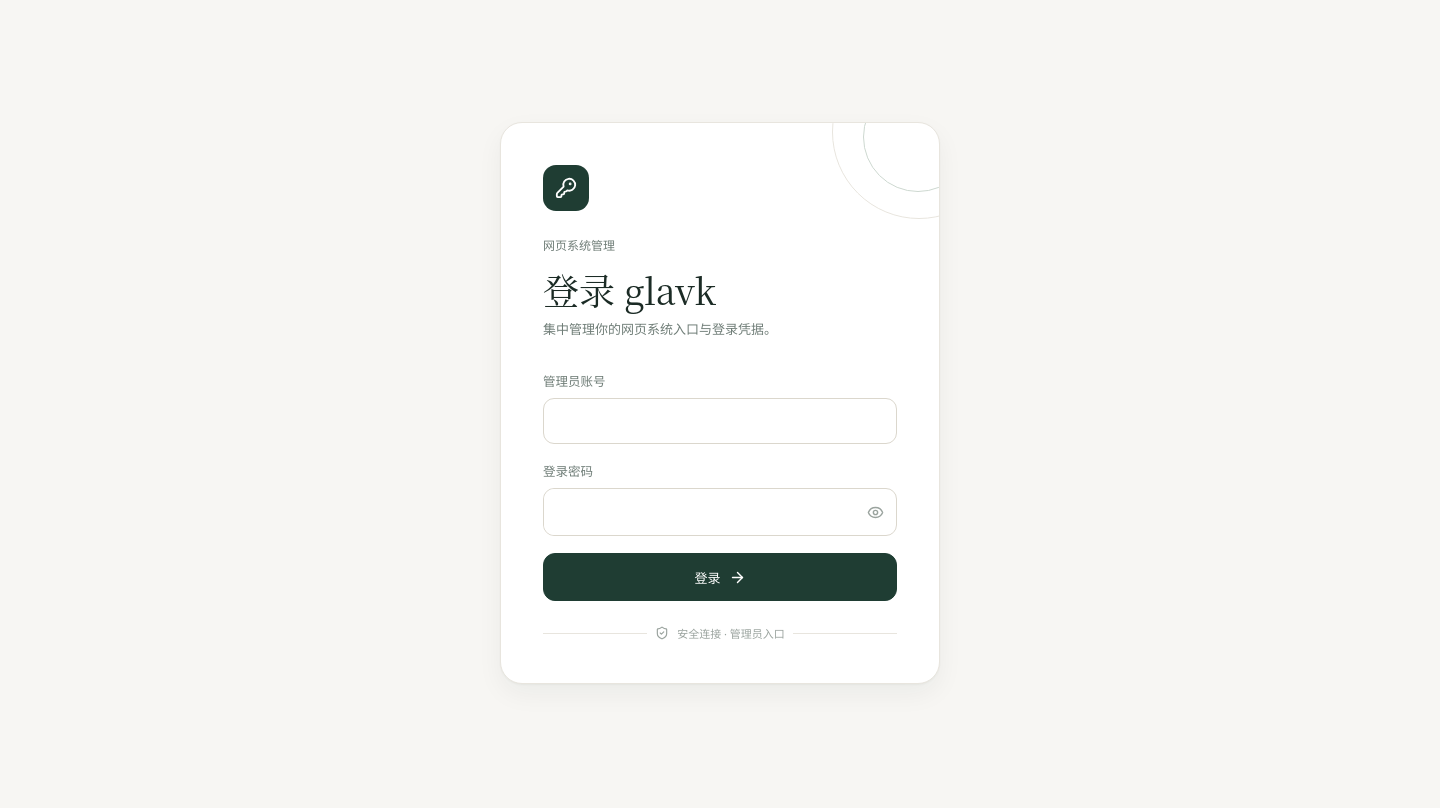
Scenario: glavk dashboard workflows › renders a project card and copies its password only after in-memory decryption
The width and height of the screenshot is (1440, 808).
In the field labelled "管理员账号": [720, 421] box [543,398,897,444], type "admin"
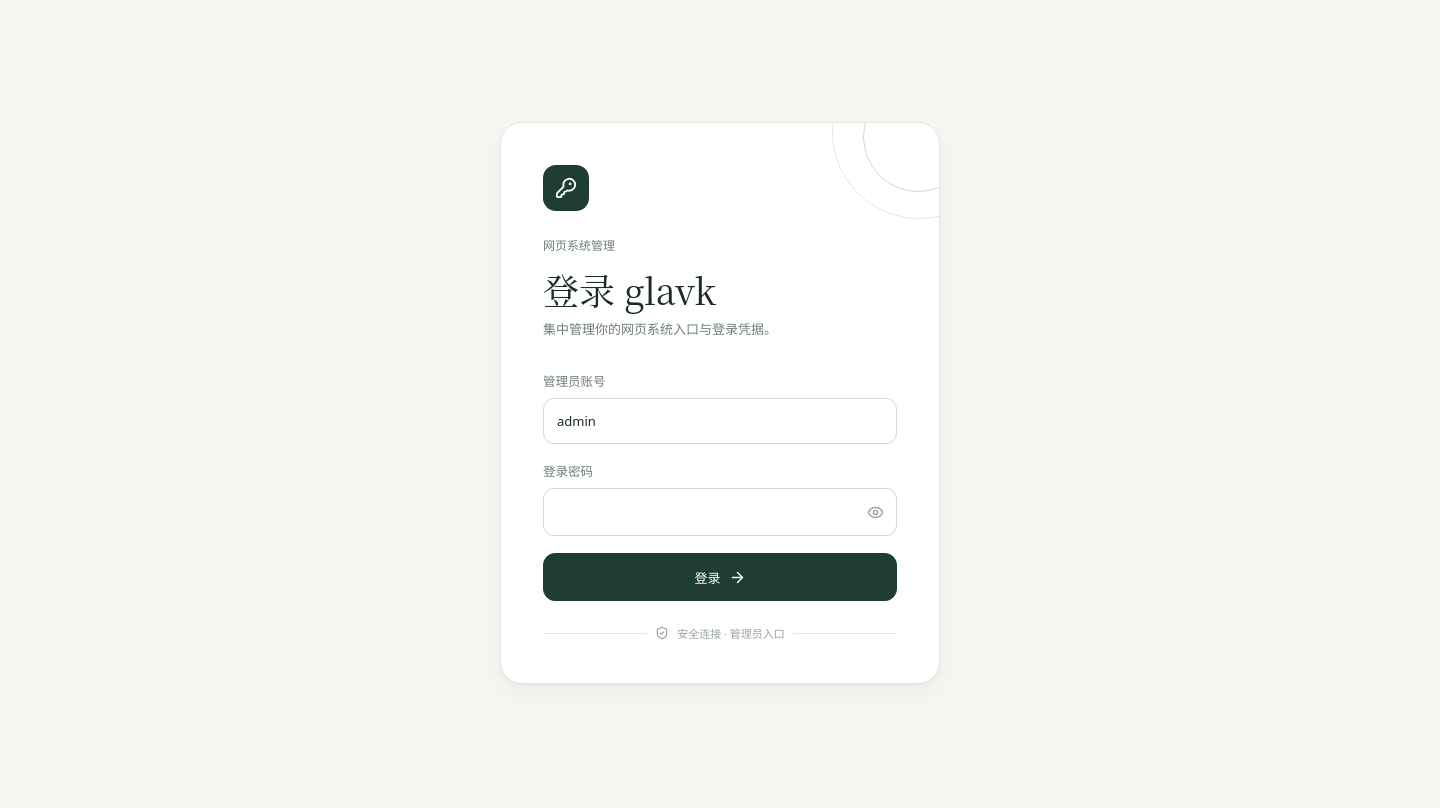
In the password field labelled "登录密码": [701, 512] box [544,489,857,535], type "admin@123"
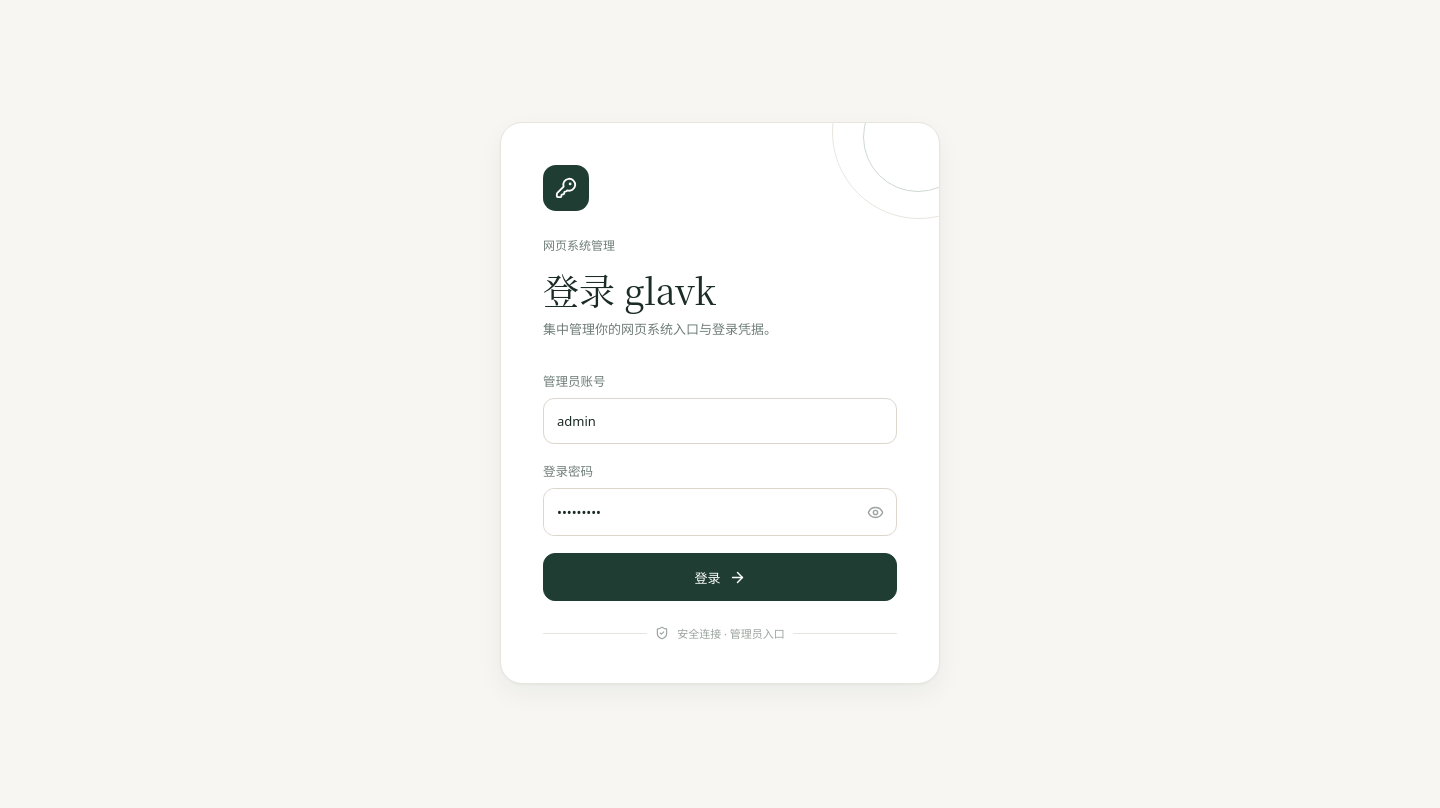
Click the button "登录": [720, 577] box [543,553,897,601]
(page scrolled)
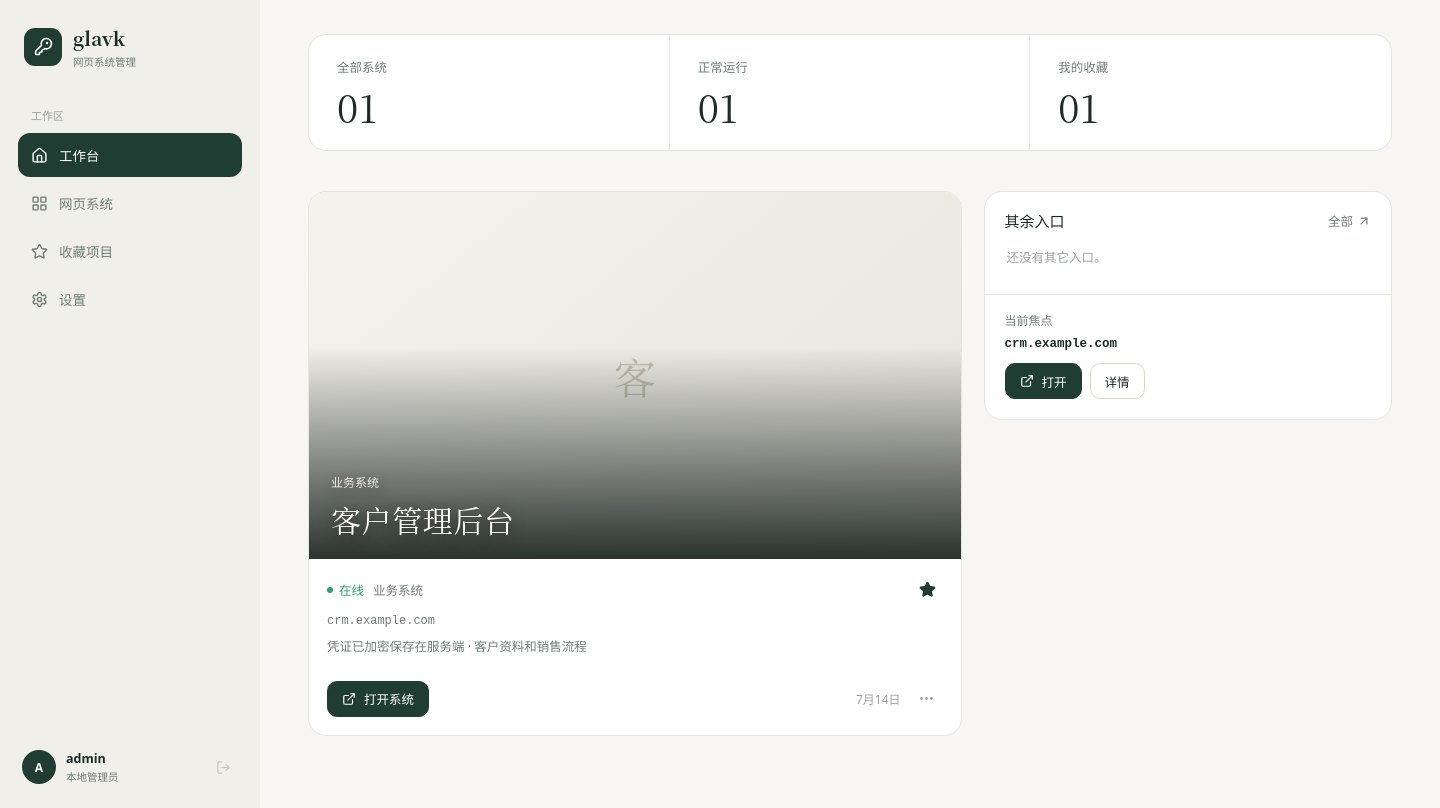
Check: the text "客户管理后台" is shown, box [331,497,515,541]
Check: the text "凭证已加密保存在服务端 · 客户资料和销售流程" is shown, box [327,638,587,655]
Click the button named "更多操作": [926, 698] box [910,682,942,714]
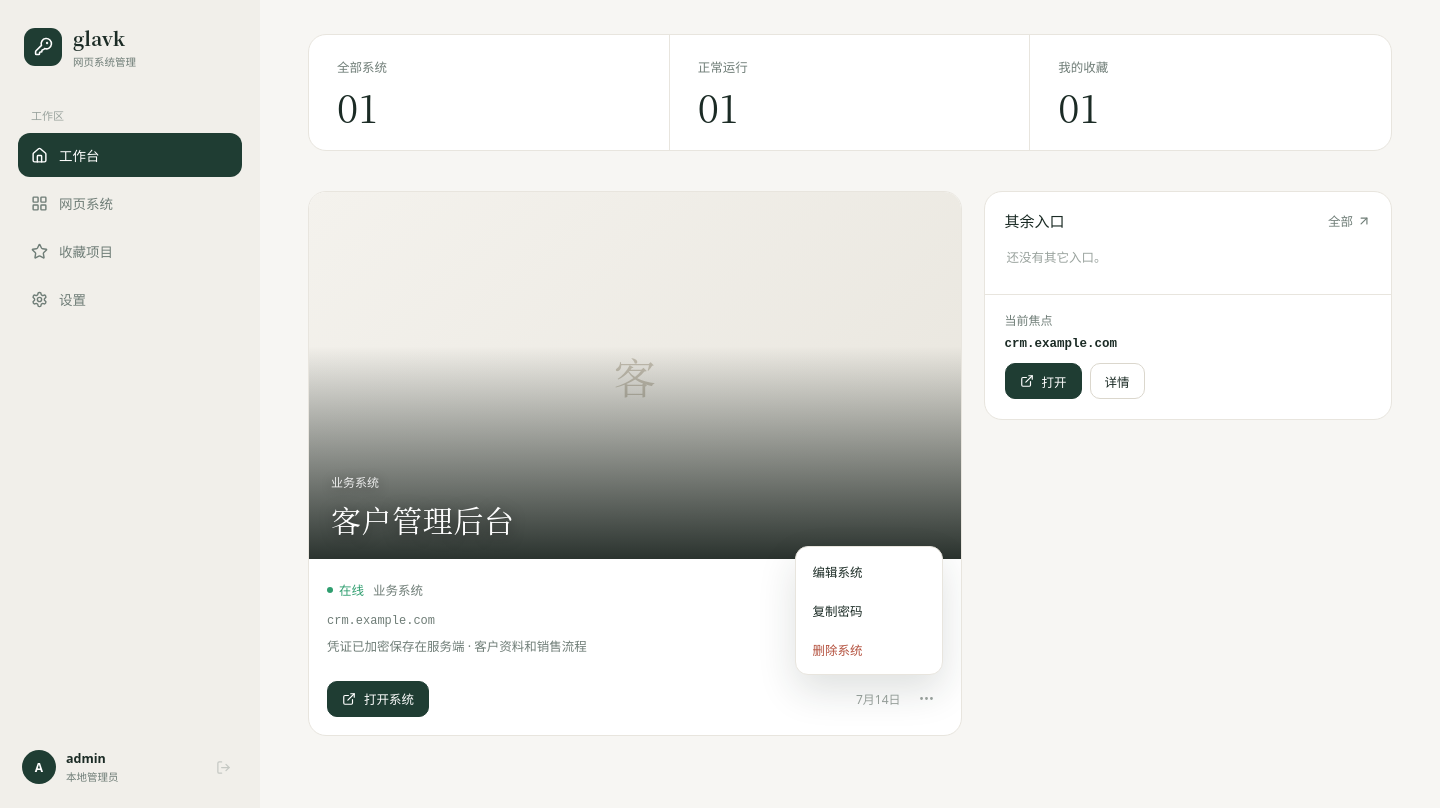
Click the menu item "复制密码": [868, 610] box [802,592,936,628]
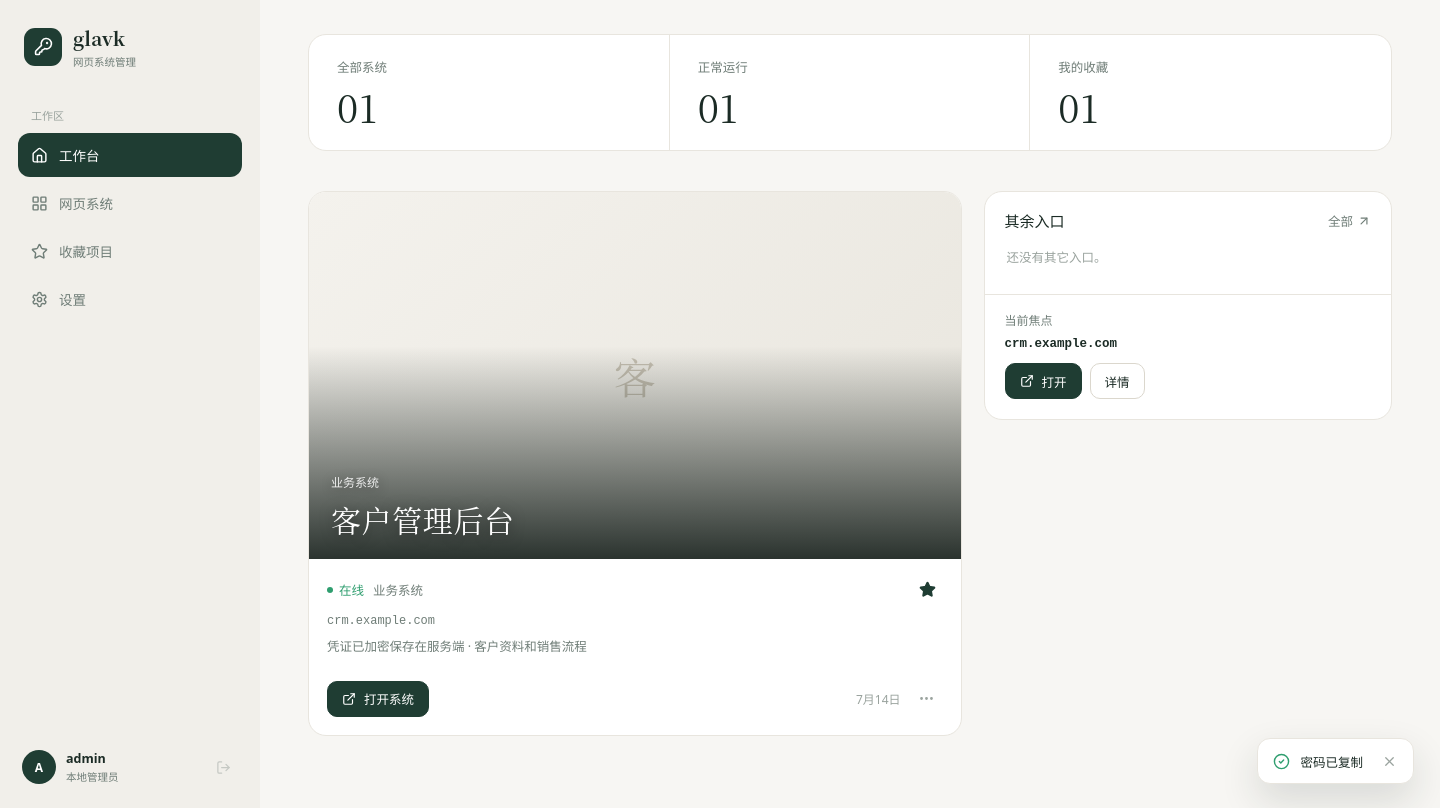
Check: the text "密码已复制" is shown, box [1300,752,1363,770]
